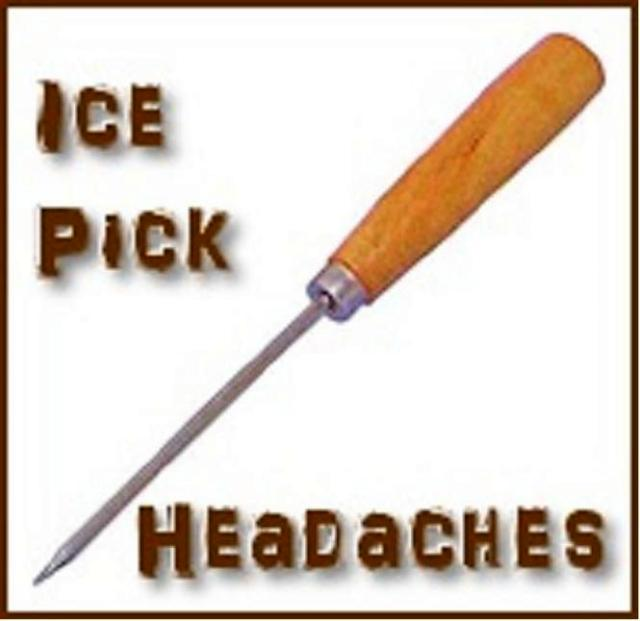ice pick: (28, 32, 606, 590)
